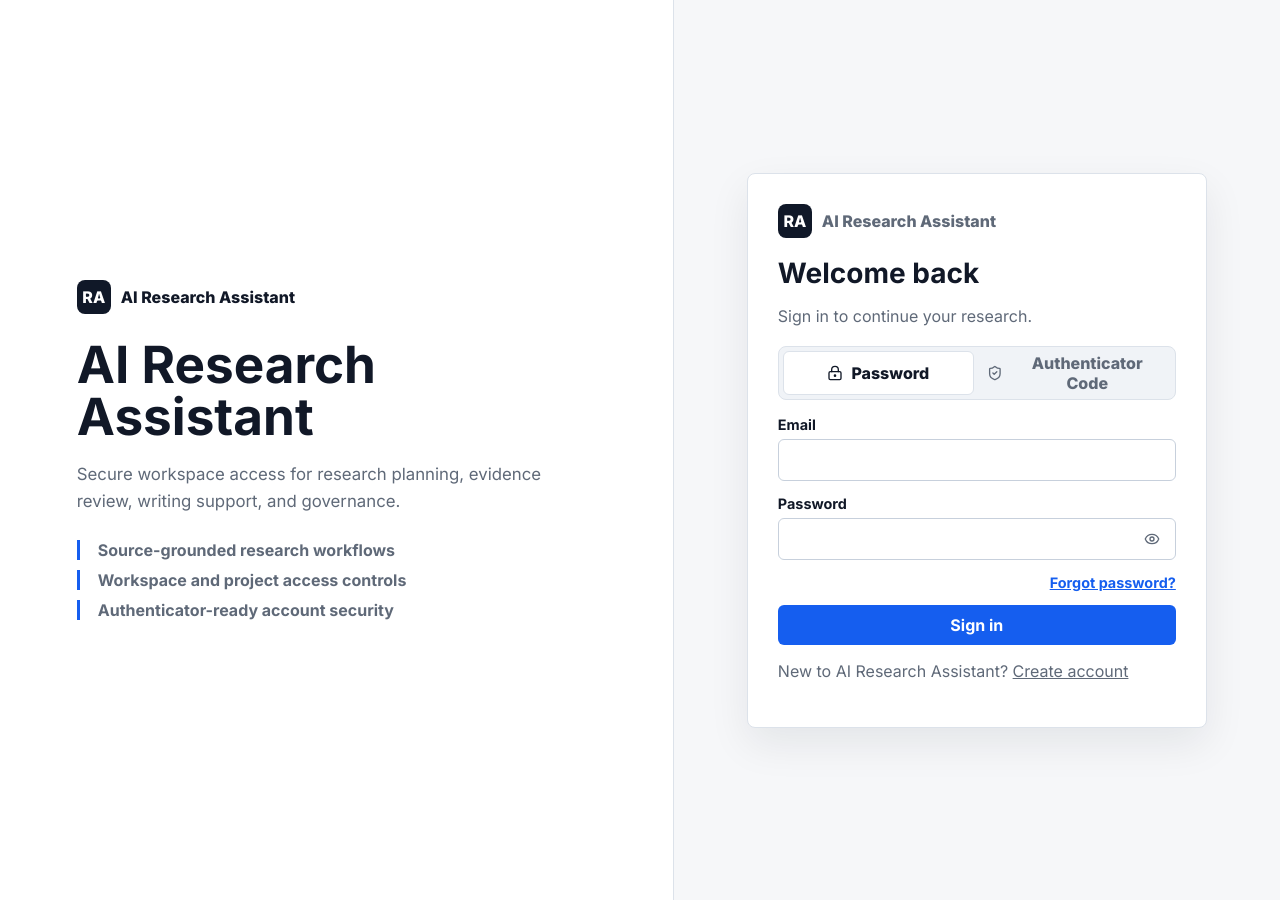
Test: LoginPage › displays account inactive and account suspended errors safely
Type "inactive@example.com" into the field labelled "Email" at (977, 460), box [778,438,1176,480]
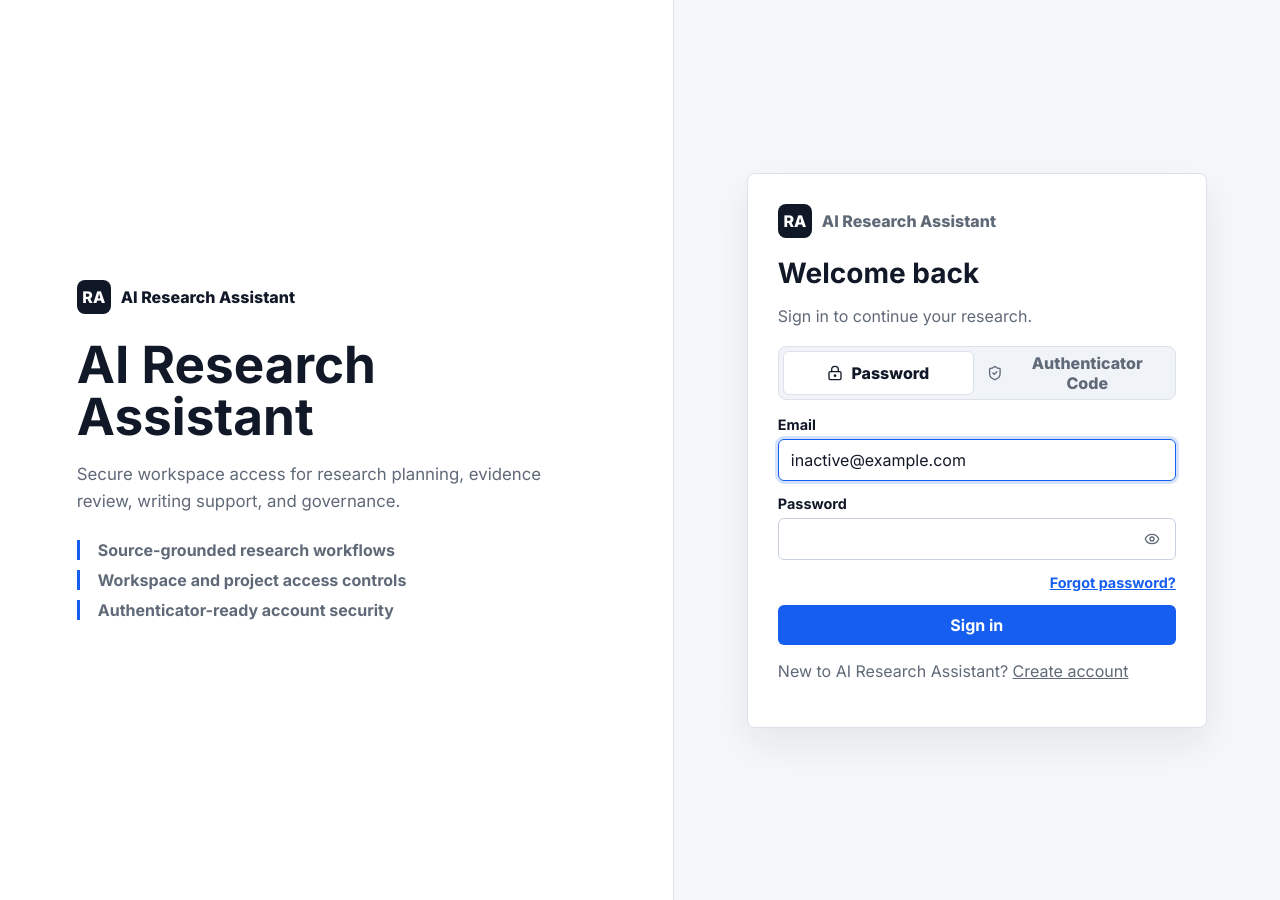
Type "password123" into the password field labelled "Password" at (977, 538), box [778,518,1176,560]
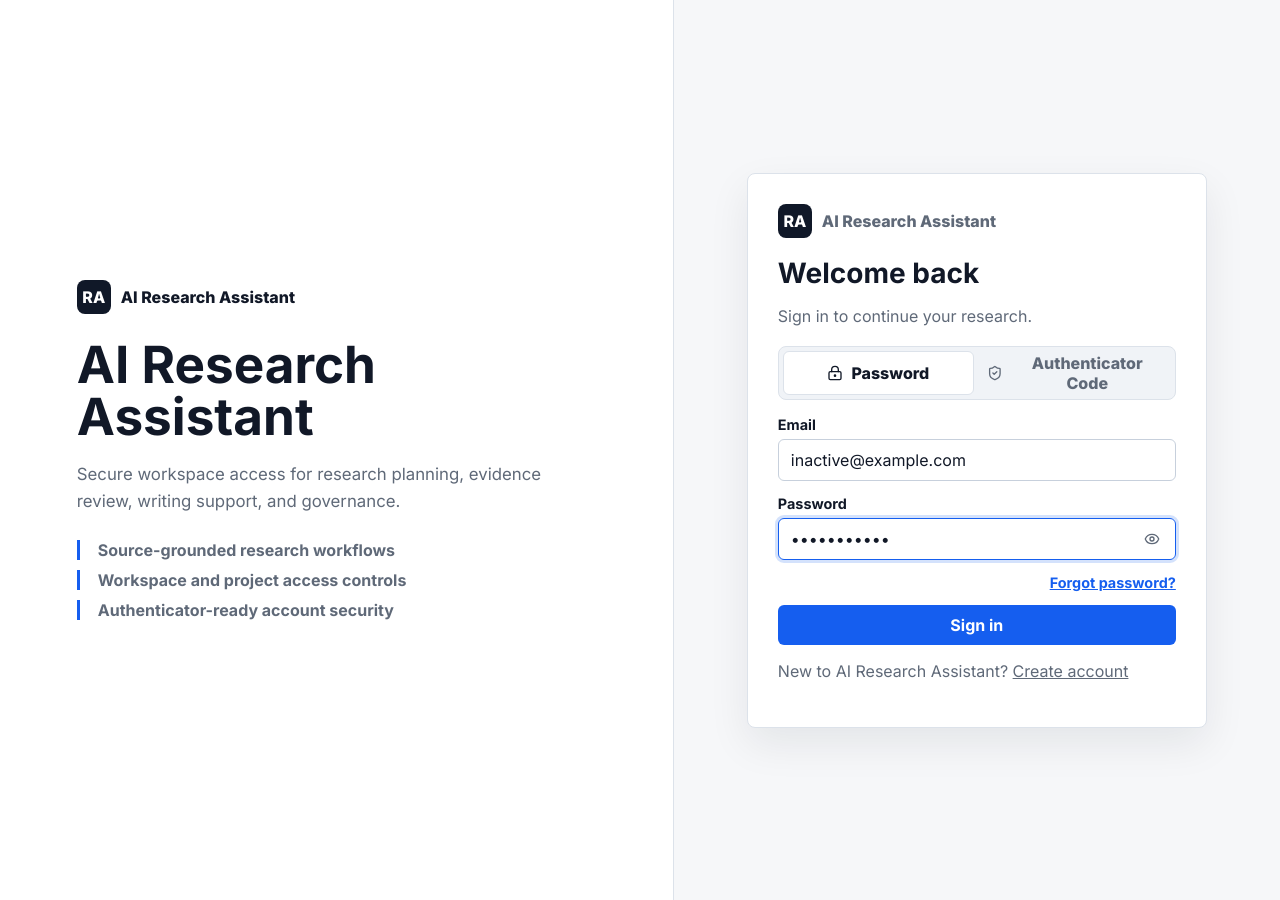
Click the button "Sign in" at (977, 624), box [778,604,1176,644]
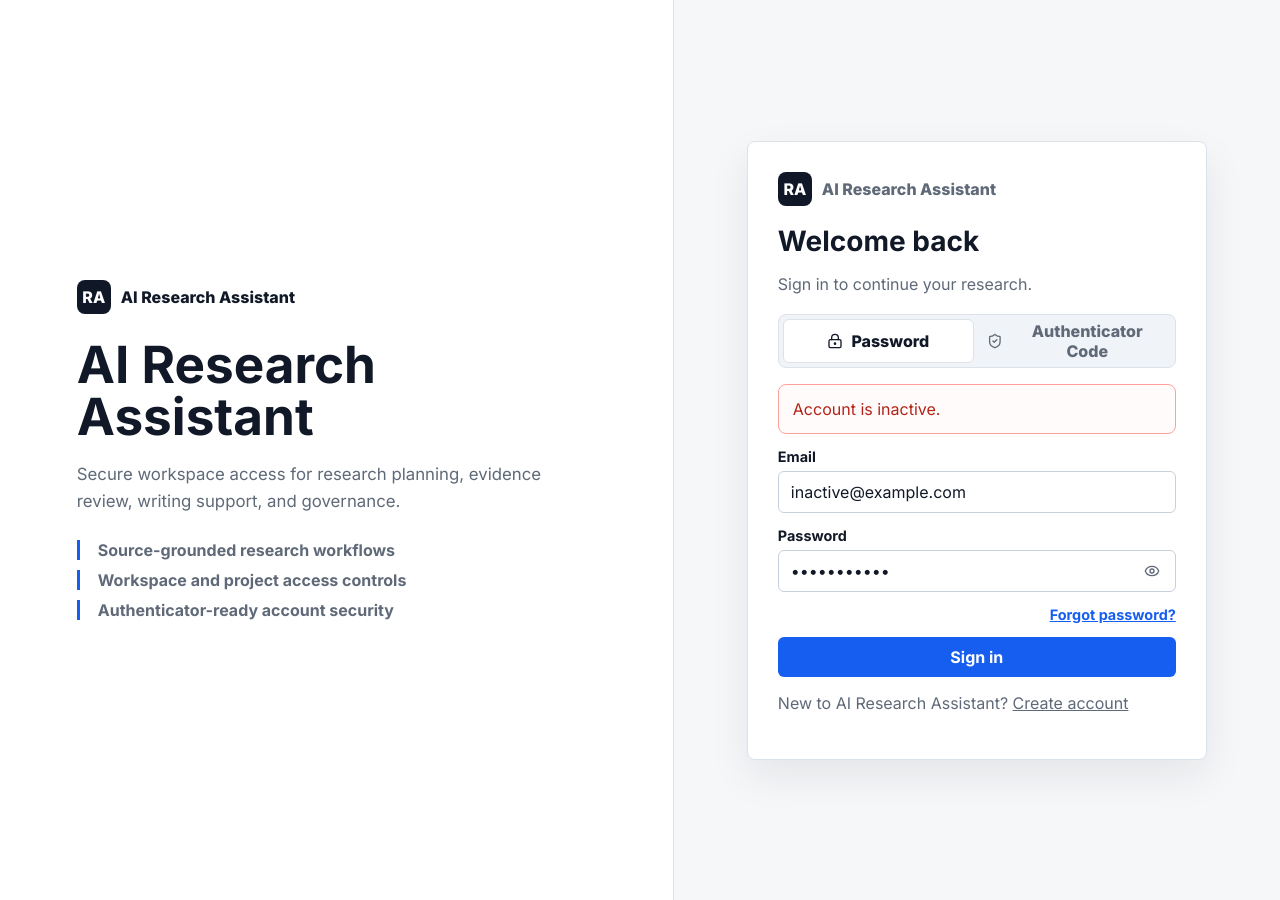
Check: the message reads "Account is inactive.", box [793,398,940,418]
